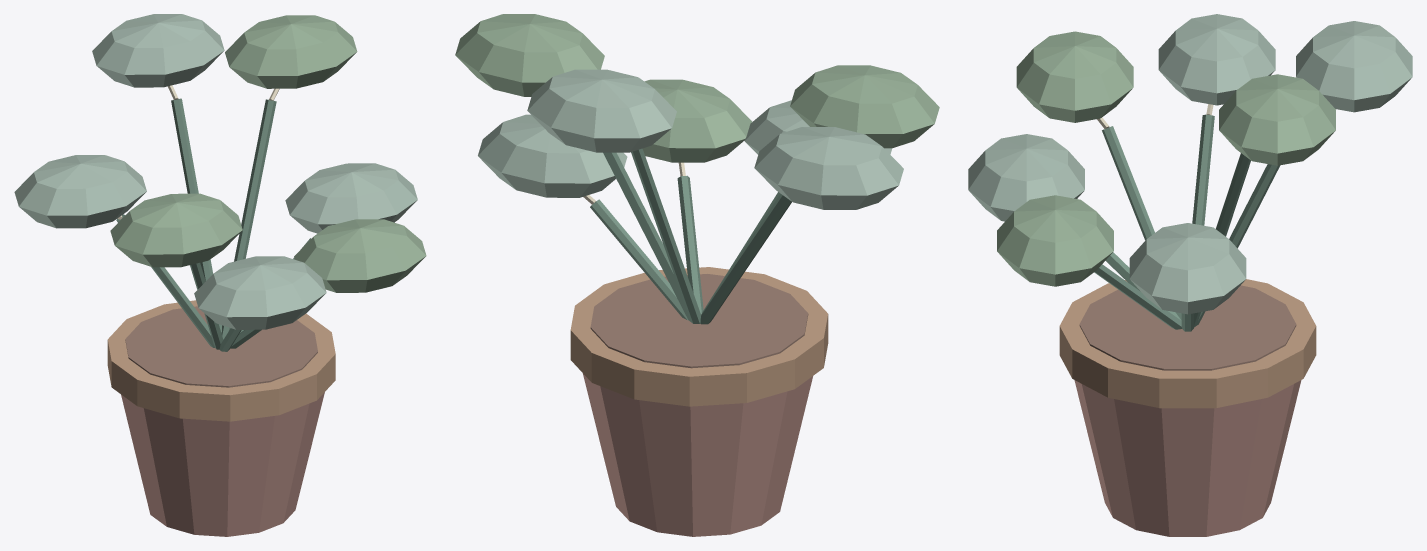
The model's file is plant.glb.
The picture shows the model from 3 angles, left to right: view 1: azimuth 30°, elevation 25°; view 2: azimuth 150°, elevation 25°; view 3: azimuth 270°, elevation 25°; orthographic projection. The views are drawn at different scales.
Visible parts, largest first — view 1: plant; view 2: plant; view 3: plant.
Boxes of the visible parts, x1,y1,x2,y2 form: plant: (14, 14, 426, 536); plant: (455, 14, 939, 536); plant: (968, 14, 1412, 536).
Bounding box in the file's own units: 1.36 × 1.45 × 1.23.
